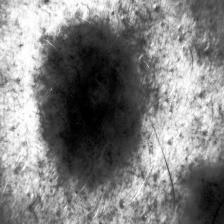Benign Marking or Mole: (43, 31, 146, 177)
